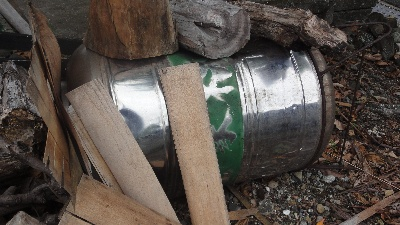water_tower: (57, 38, 338, 183)
